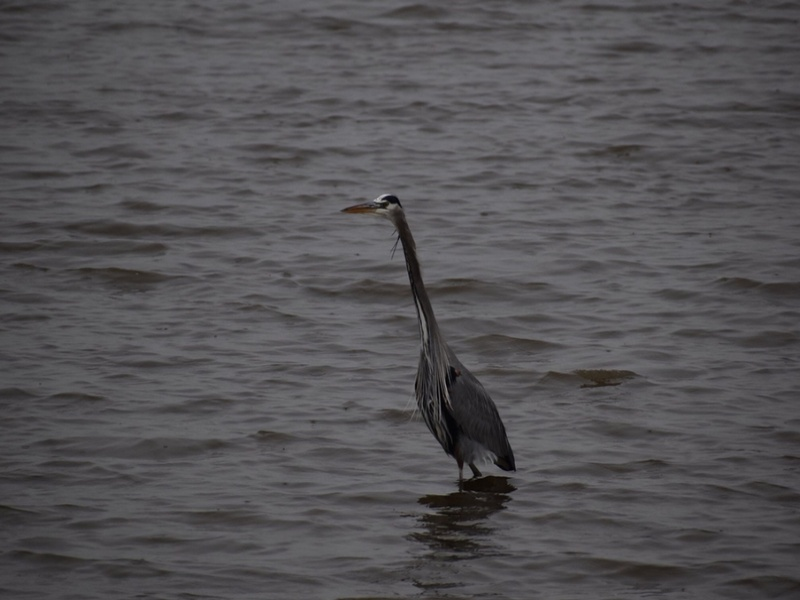heron: (341, 188, 522, 487)
